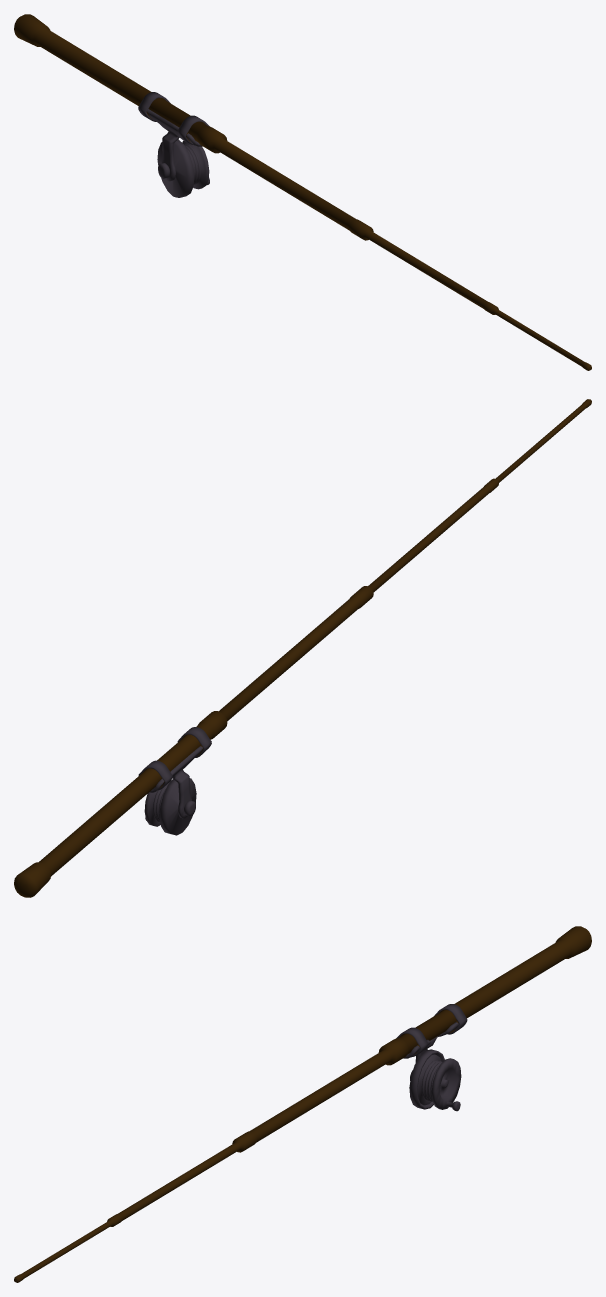
The model's file is final rod.fbx.
The picture shows the model from 3 angles, top to bottom: view 1: azimuth 30°, elevation 25°; view 2: azimuth 150°, elevation 25°; view 3: azimuth 330°, elevation 25°; orthographic projection.
Parts seen in each view (by area): view 1: spining01, spining01.001; view 2: spining01, spining01.001; view 3: spining01, spining01.001.
Boxes of the visible parts, bbox=[...] form: spining01: bbox=[14, 14, 591, 370]; spining01.001: bbox=[138, 92, 209, 197]; spining01: bbox=[14, 399, 591, 897]; spining01.001: bbox=[138, 727, 211, 835]; spining01: bbox=[14, 926, 591, 1282]; spining01.001: bbox=[396, 1004, 467, 1111].
Size of the model in its own units: 9.13 by 24.8 by 194.
